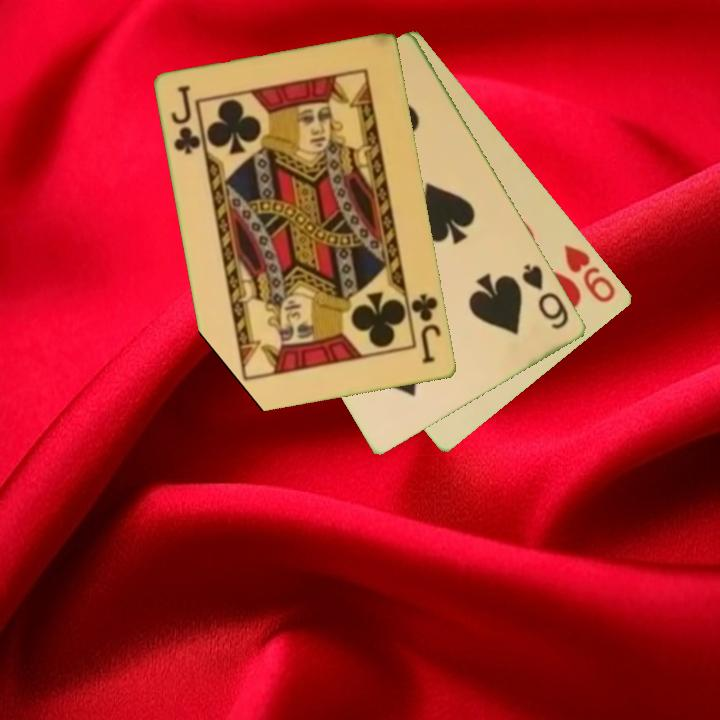6s: (519, 260, 572, 333)
9h: (561, 241, 619, 306)
Jc: (408, 290, 445, 367), (168, 82, 204, 158)
